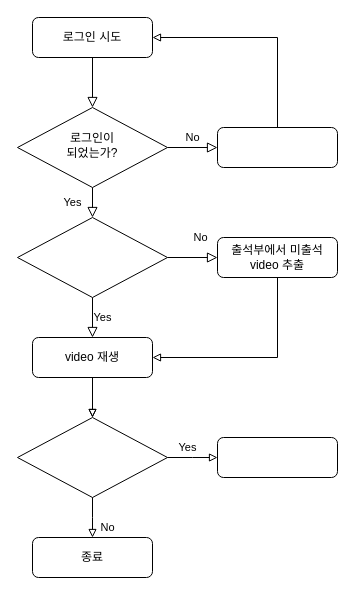
Image size: 355x595. Some labels were removed from this diagram. Here are the shapes that lost their labels. From the top down, the centre of each, then its label:
At (277,147): "ID, PW 재입력".
At (92,257): "재생이 되지 않은 video 가 존재하는가?".
At (92,457): "재생중 오류가 있는가?".
